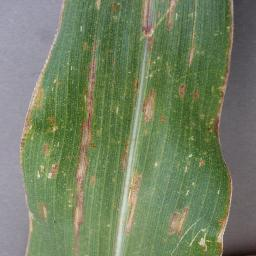Gray_Leaf_Spot: (75, 38, 101, 255), (16, 70, 46, 254), (217, 171, 236, 256), (222, 0, 235, 100), (127, 170, 145, 234), (163, 205, 191, 239), (141, 84, 162, 120), (141, 0, 155, 53), (210, 100, 225, 138), (116, 136, 132, 170), (162, 0, 177, 32), (184, 154, 209, 172), (95, 0, 120, 17), (187, 31, 197, 68), (46, 115, 62, 136), (56, 0, 65, 34), (146, 56, 162, 75), (47, 160, 60, 181), (42, 46, 53, 69), (198, 226, 208, 251), (174, 81, 187, 99), (130, 73, 141, 94), (193, 85, 202, 99)
